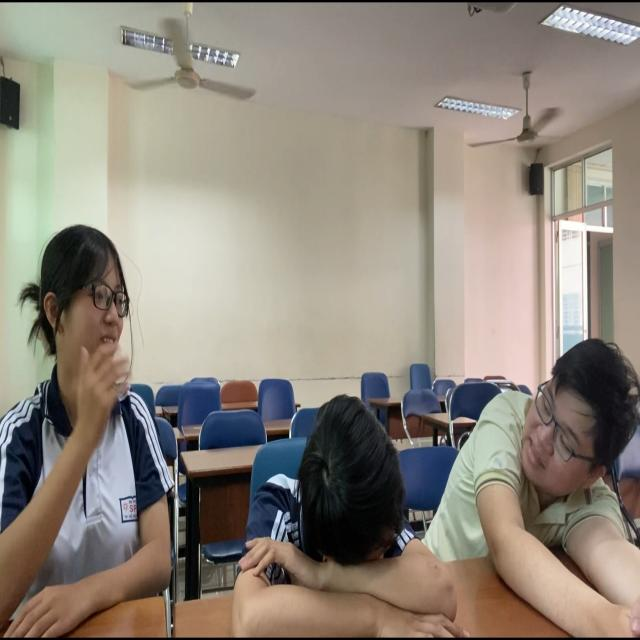sleep: (226, 382, 447, 640)
